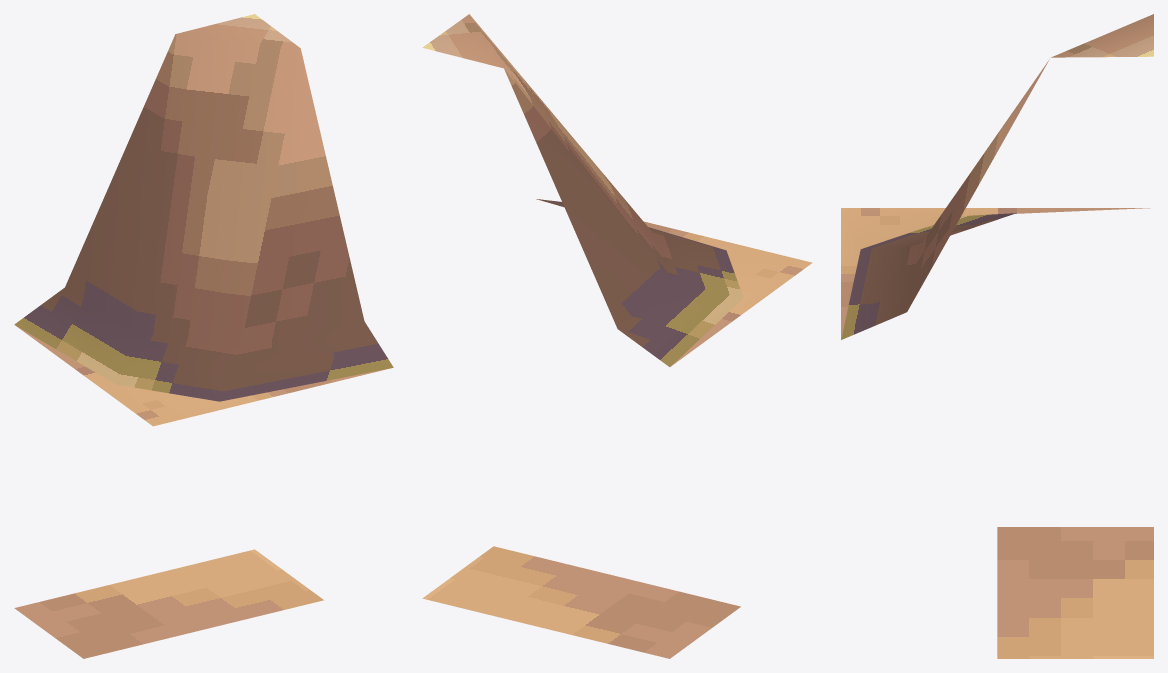
3 renders of one model, left to right at view 1: azimuth 30°, elevation 25°; view 2: azimuth 150°, elevation 25°; view 3: azimuth 270°, elevation 25°, orthographic. The views are drawn at different scales.
Size of the model in its own units: 1 by 2.12 by 1.
Materials: 3 (3 with a texture image).
